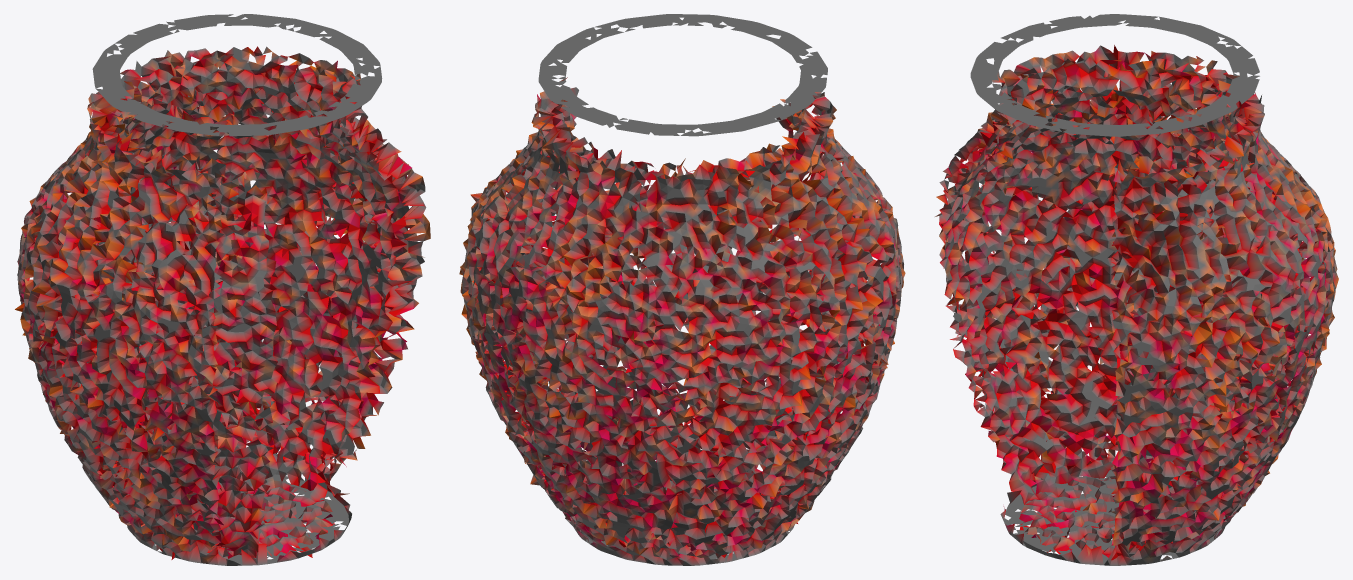
File: vase_final300.obj
The picture shows the model from 3 angles, left to right: view 1: azimuth 30°, elevation 25°; view 2: azimuth 150°, elevation 25°; view 3: azimuth 270°, elevation 25°; orthographic projection.
Bounding box in the file's own units: 1.56 × 1.75 × 1.4.
